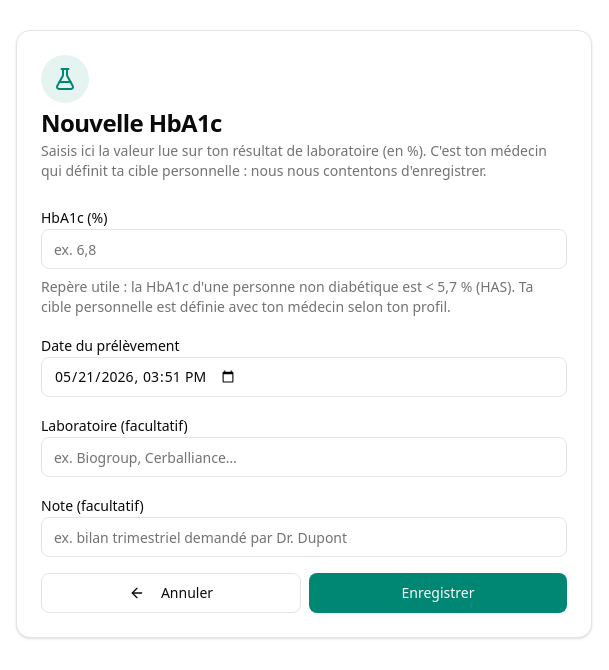
Test case: <HbA1cNewPage /> › blocks submission with no value
What coordinates should you click on to do the following:
click the button "Enregistrer"
I would click on:
 (438, 593)
Its box is [309,573,567,613].
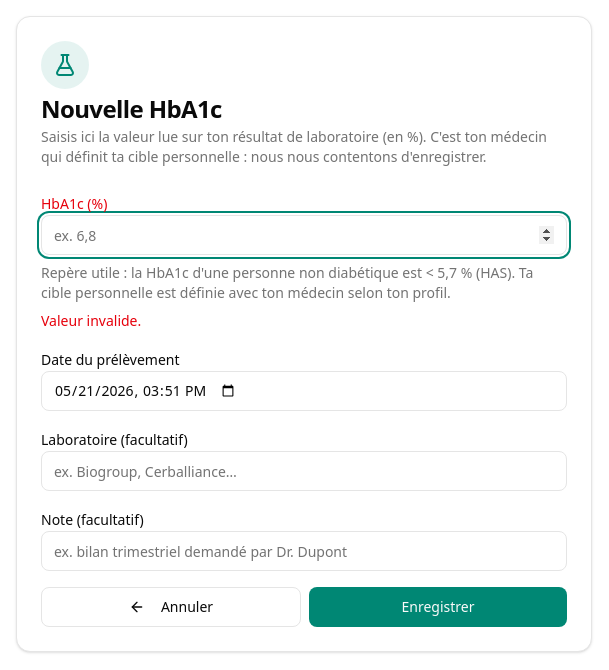
Check: the text "Valeur invalide." is shown, box [41,311,141,330]
